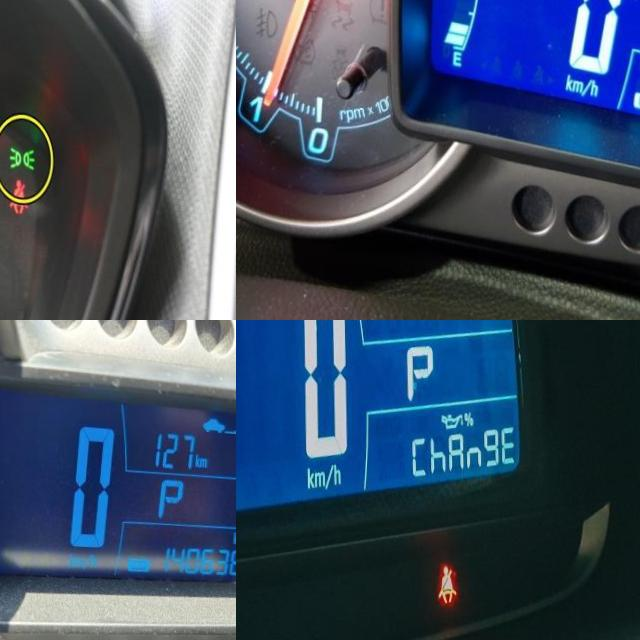SideLamp: (9, 140, 35, 165)
